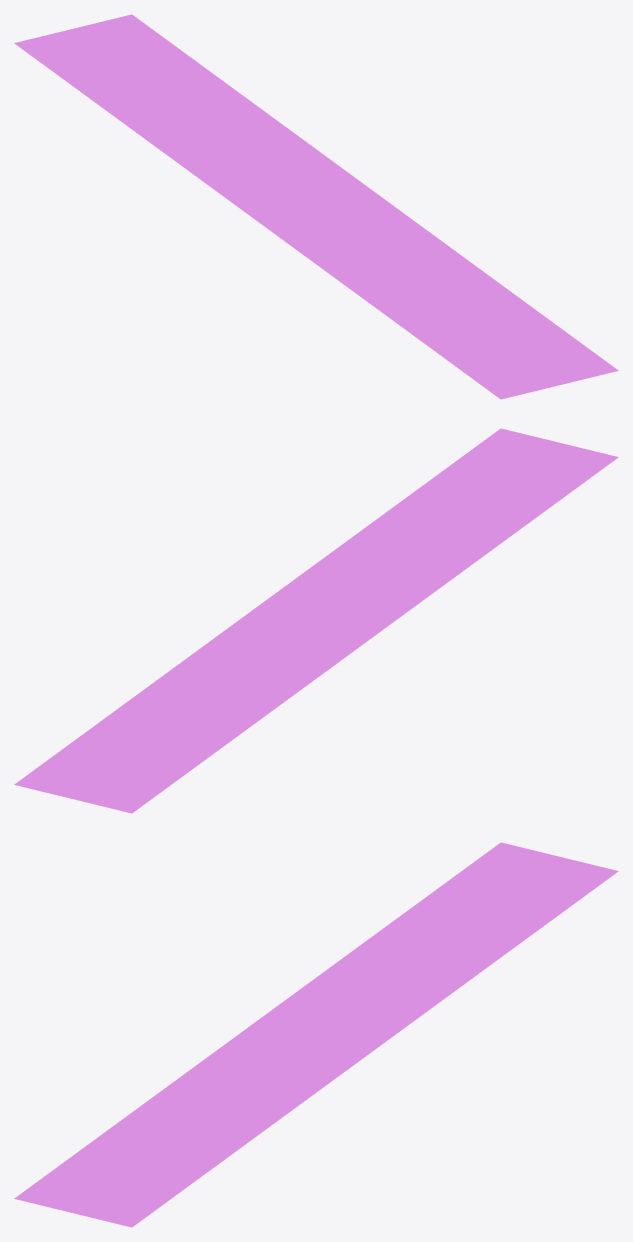
Rendered from Labels.fbx.
The picture shows the model from 3 angles, top to bottom: view 1: azimuth 30°, elevation 25°; view 2: azimuth 150°, elevation 25°; view 3: azimuth 330°, elevation 25°; orthographic projection.
Parts seen in each view (by area): view 1: Label_Animation; view 2: Label_Animation; view 3: Label_Animation.
Part boxes in pixels (x1,y1,x2,y2): Label_Animation: [14, 14, 618, 399]; Label_Animation: [14, 428, 618, 813]; Label_Animation: [14, 842, 618, 1227].
Size of the model in its own units: 0.7636 by 5.22e-07 by 5.45.
